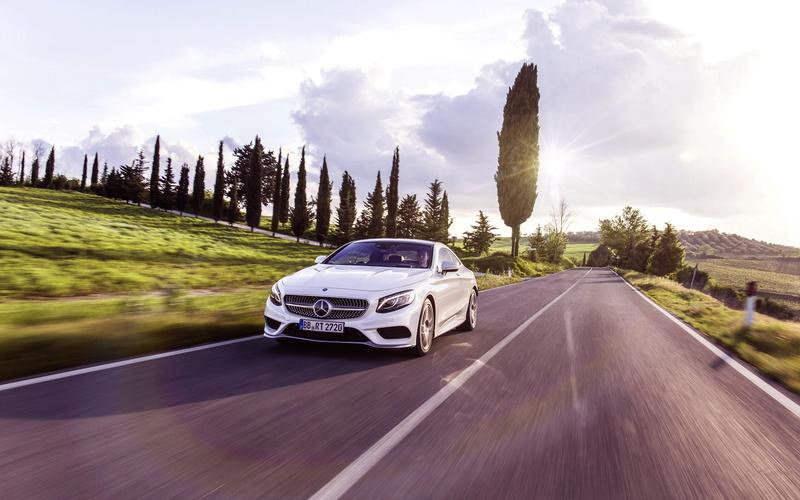car: (257, 206, 484, 353)
